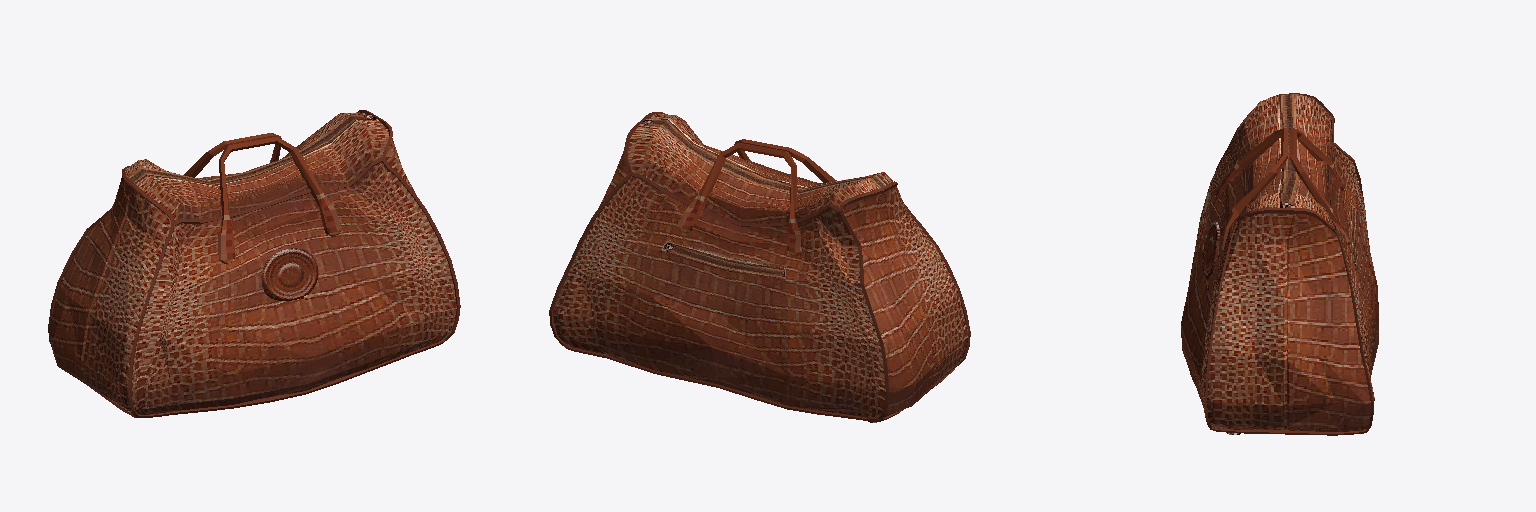
3 views of the same model, side by side, from view 1: azimuth 30°, elevation 25°; view 2: azimuth 150°, elevation 25°; view 3: azimuth 270°, elevation 25° (orthographic).
Size of the model in its own units: 1.04 by 0.6546 by 0.5084.
Materials: 1 (1 with a texture image).